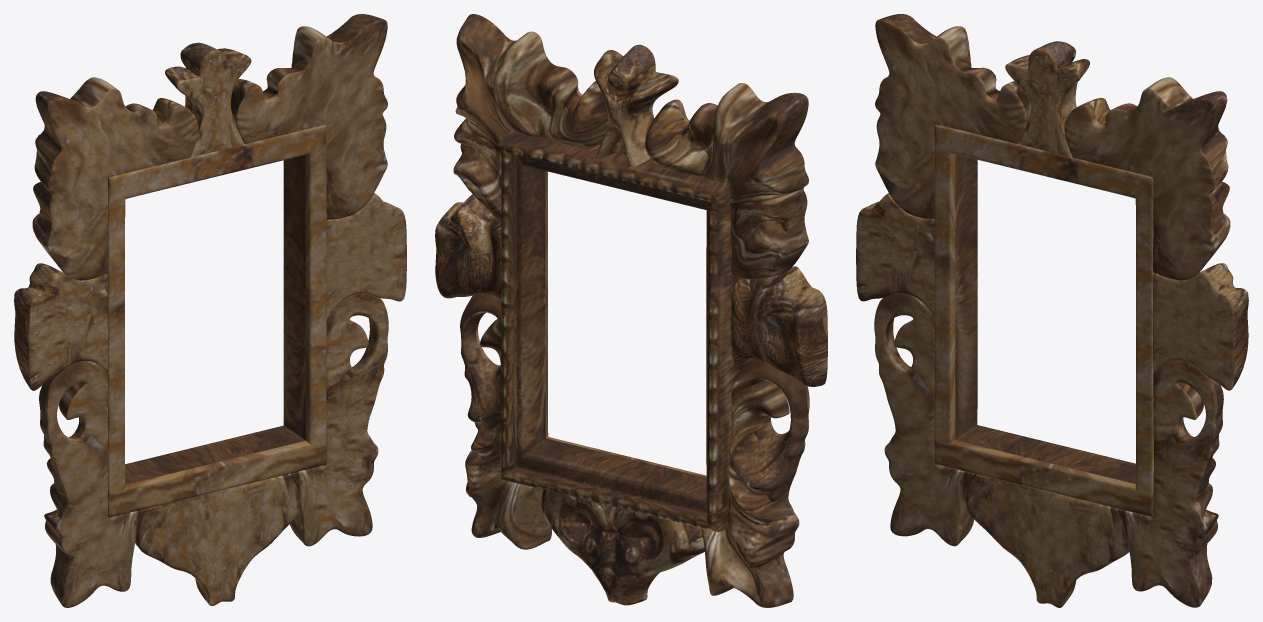
File: WoodenFrame.glb
The picture shows the model from 3 angles, left to right: view 1: azimuth 30°, elevation 25°; view 2: azimuth 150°, elevation 25°; view 3: azimuth 330°, elevation 25°; orthographic projection.
Visible parts, largest first — view 1: 10305_picture_frame_V2_max2011_it2; view 2: 10305_picture_frame_V2_max2011_it2; view 3: 10305_picture_frame_V2_max2011_it2.
Part boxes in pixels (x1=…): 10305_picture_frame_V2_max2011_it2: x1=14, y1=14, x2=406, y2=607; 10305_picture_frame_V2_max2011_it2: x1=435, y1=14, x2=827, y2=607; 10305_picture_frame_V2_max2011_it2: x1=856, y1=14, x2=1248, y2=607.
Bounding box in the file's own units: 1.25 × 1.75 × 0.1893.
1 material, 1 textured.
